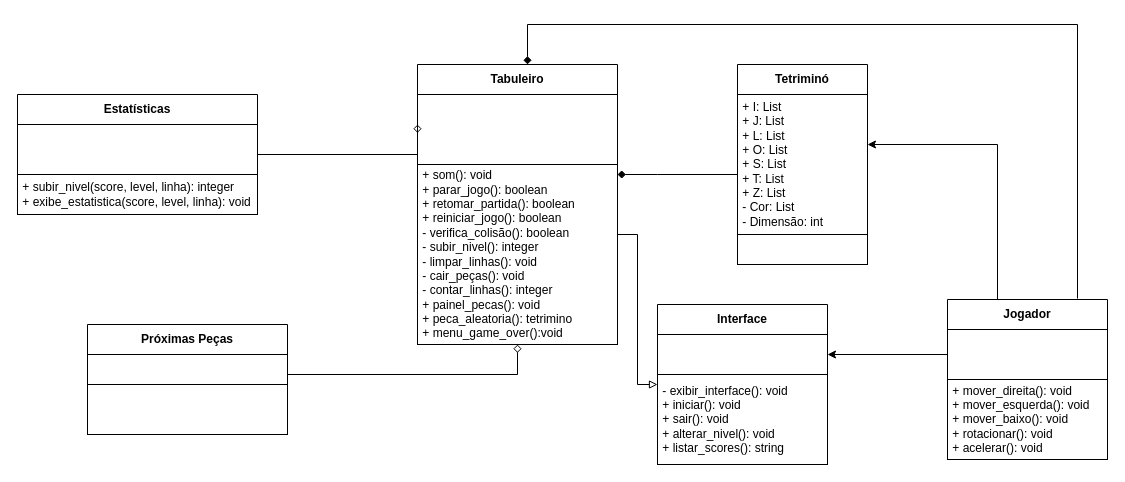
The diagram is 1125 pixels wide and 482 high, and some of its shapes have lost their labels. Each missing label, with the centre of its shape:
+ background: file: the point at 742,354
+ nome: string + record: integer + score: integer: the point at 1027,354
+ painel_pecas(): void + peça_aleatoria(): tetrimino: the point at 187,409
+ peça: Tetrimino: the point at 187,369
+ score: Integer + level: Integer + linha: Integer: the point at 137,149
- player: Jogador - tempo: Integer + nível: Integer + velocidade: float: the point at 517,129
